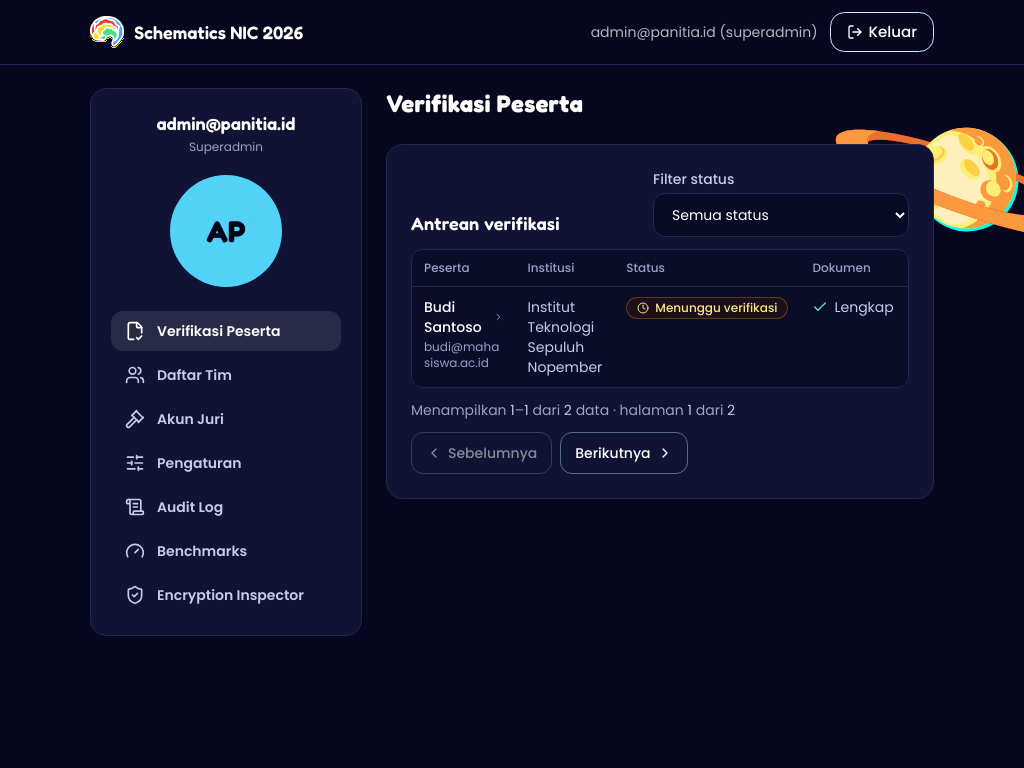
Test: Superadmin participant verification › pages through the queue and reports the current window
Expected: the navigation bar with test id "participants-pagination" shows "1", [510, 400, 515, 420]
Expected: the navigation bar with test id "participants-pagination" shows "2", [564, 400, 572, 420]
Click the button with test id "page-next" at (624, 453), box [560, 432, 688, 474]
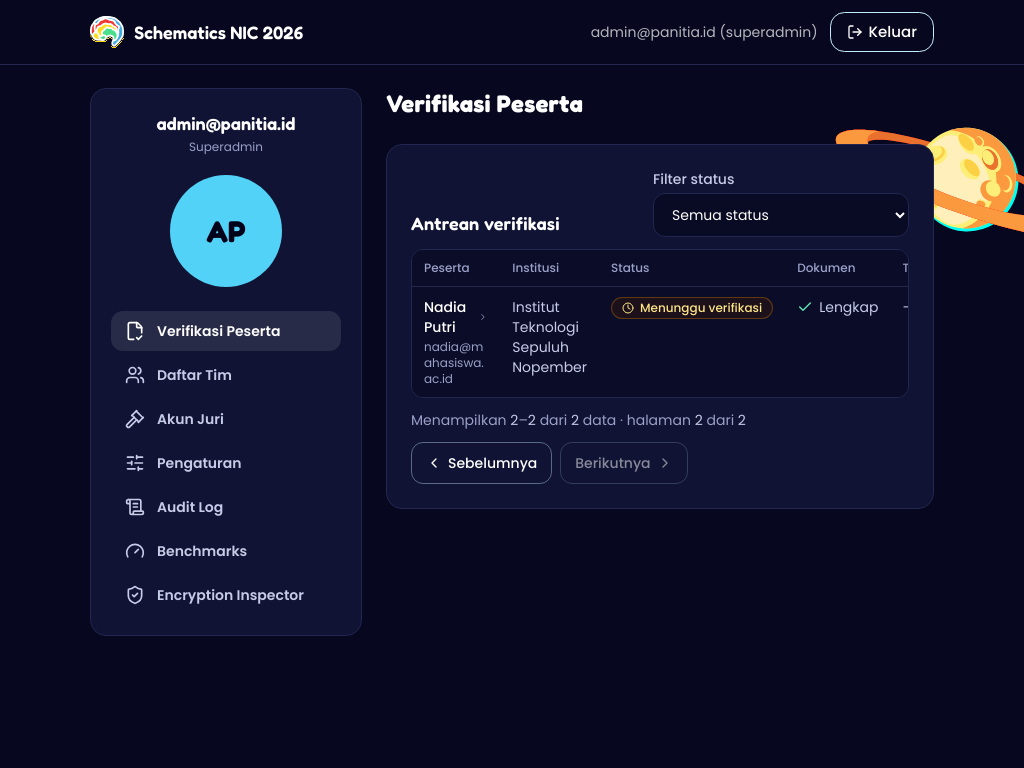
Result: the link "Nadia Putri" is shown at [424, 297, 488, 337]
